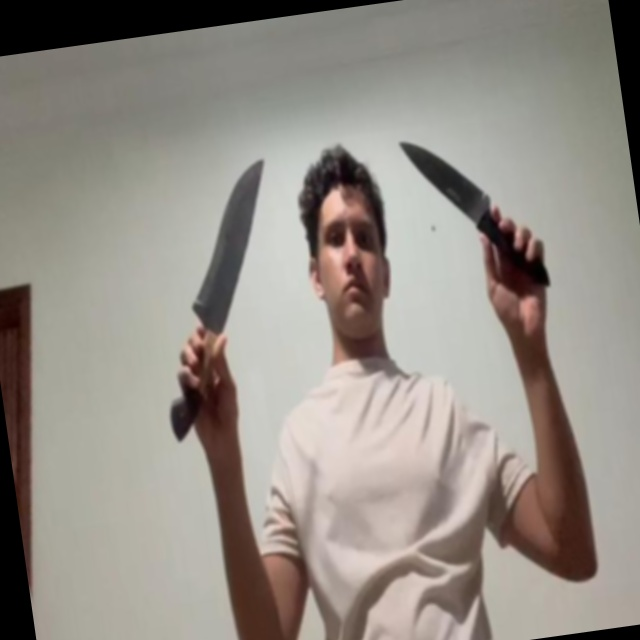Sharp-Object: (172, 156, 285, 317), (399, 128, 490, 231)
